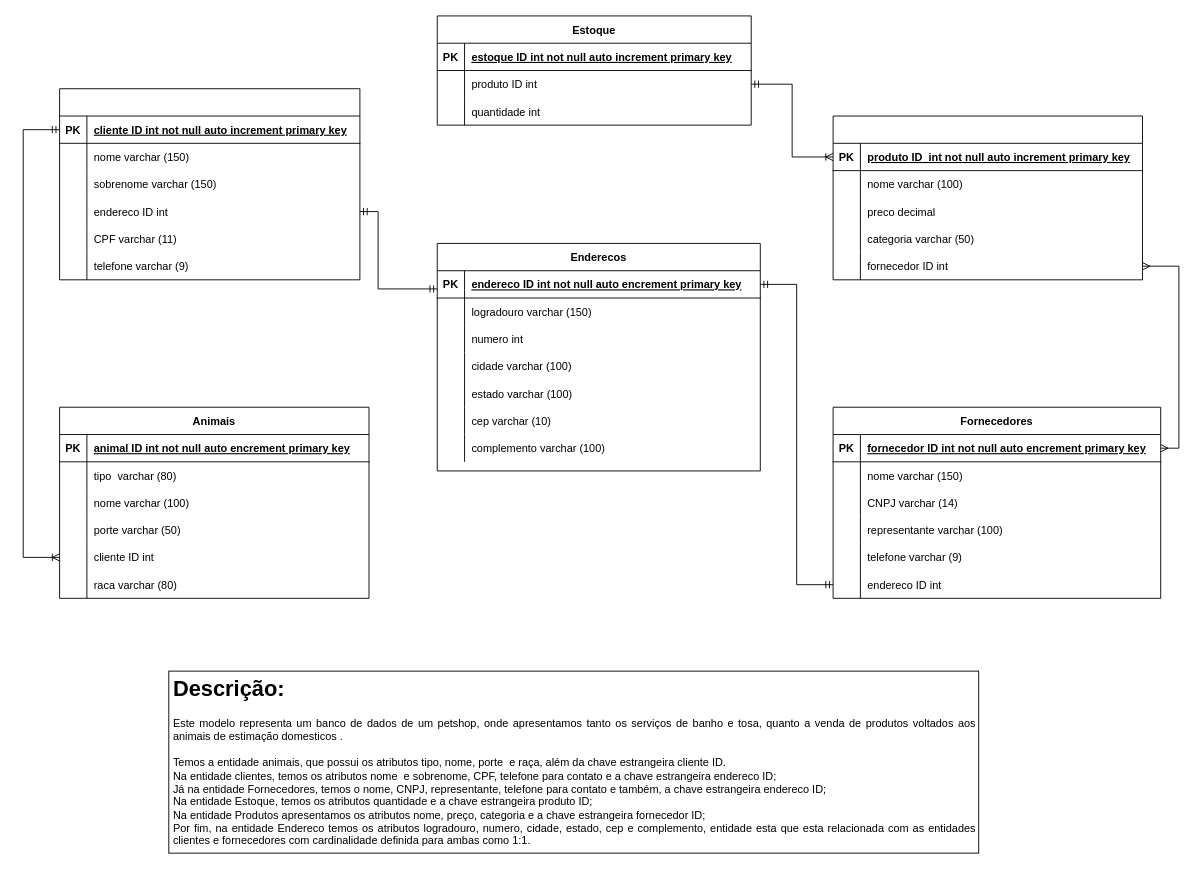
This 1203x869 diagram has some shape labels left out. The shapes that lost their labels are listed below. From the top down, each one's box as (x1, y1, x2, y2) in pixels, then its label:
(59, 88, 360, 280): Clientes
(832, 115, 1143, 280): Produtos
